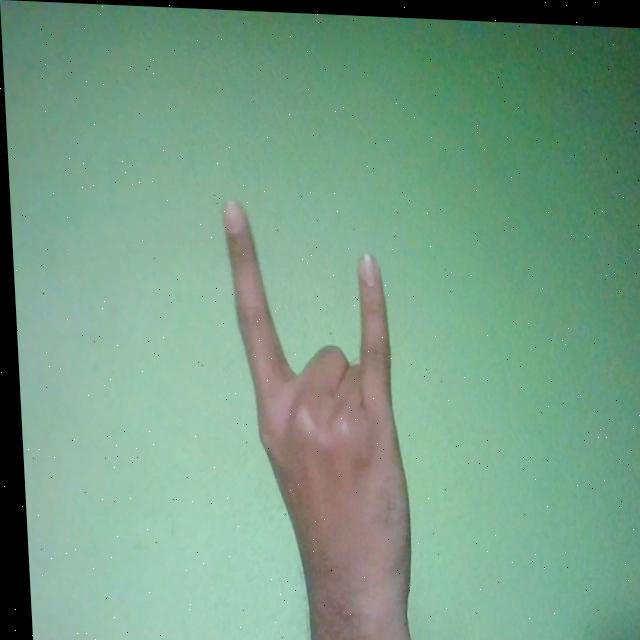Rock On: (218, 194, 411, 640)
